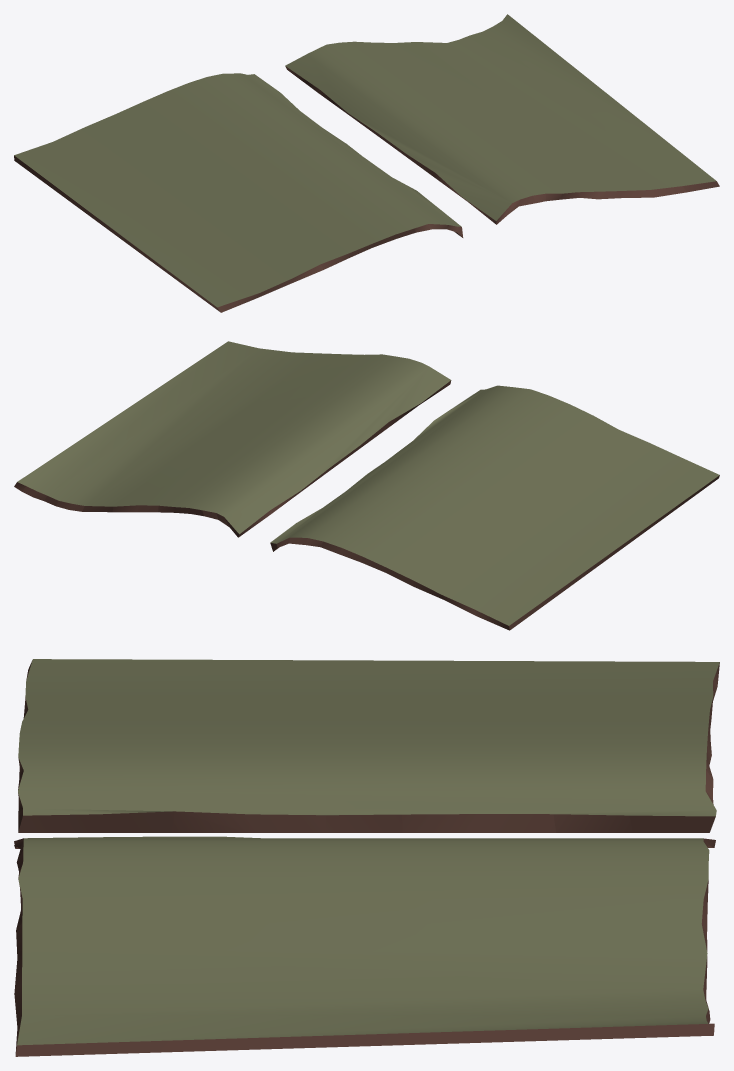
File: Ground.fbx
The picture shows the model from 3 angles, top to bottom: view 1: azimuth 30°, elevation 25°; view 2: azimuth 150°, elevation 25°; view 3: azimuth 270°, elevation 25°; orthographic projection. The views are drawn at different scales.
Parts seen in each view (by area): view 1: Scene; view 2: Scene; view 3: Scene.
Part boxes in pixels (x1,y1,x2,y2): Scene: [14, 14, 719, 312]; Scene: [14, 341, 719, 630]; Scene: [14, 659, 719, 1056].
Bounding box in the file's own units: 9342 × 763 × 6892.
